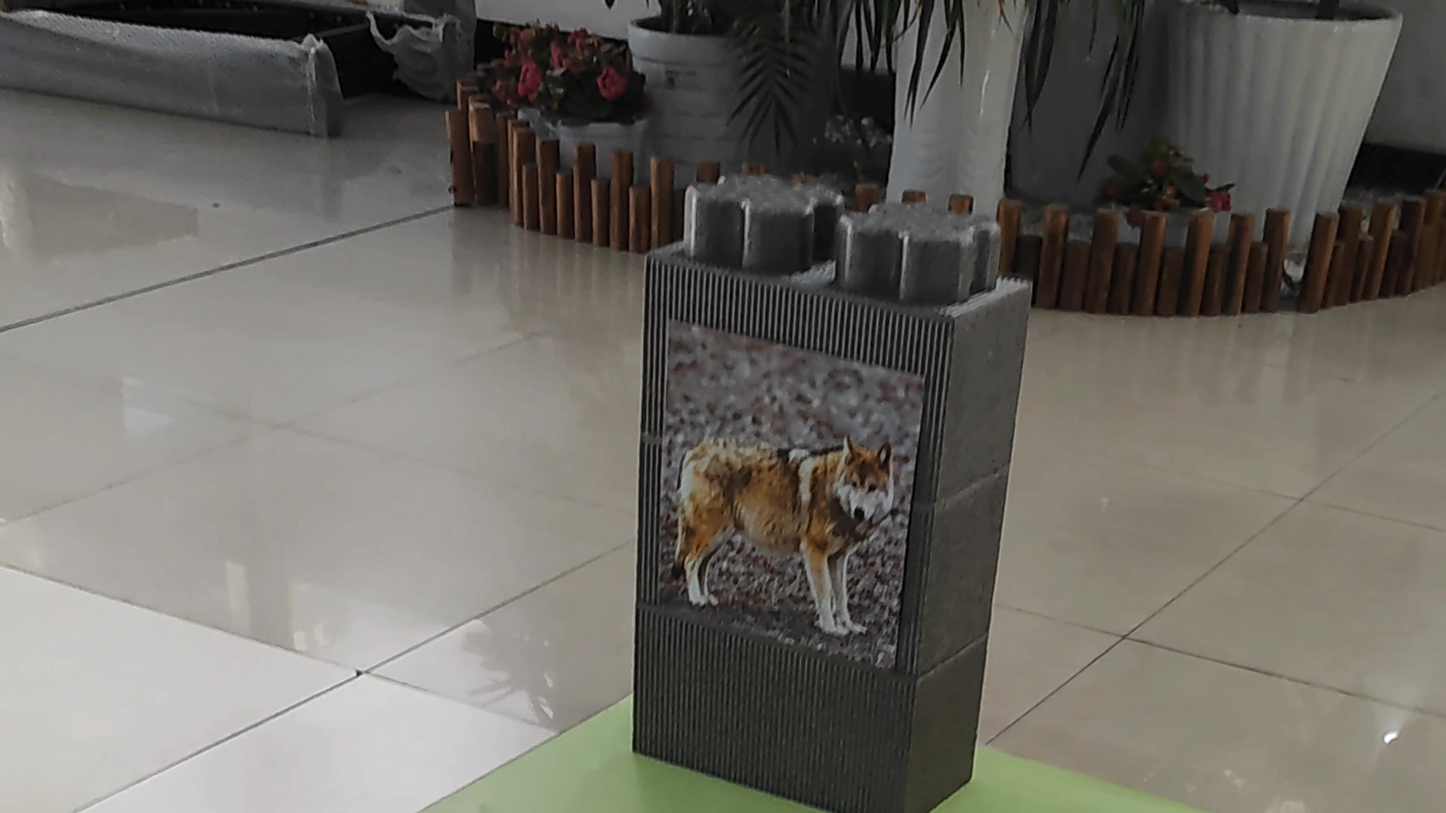wolf: (656, 320, 900, 651)
